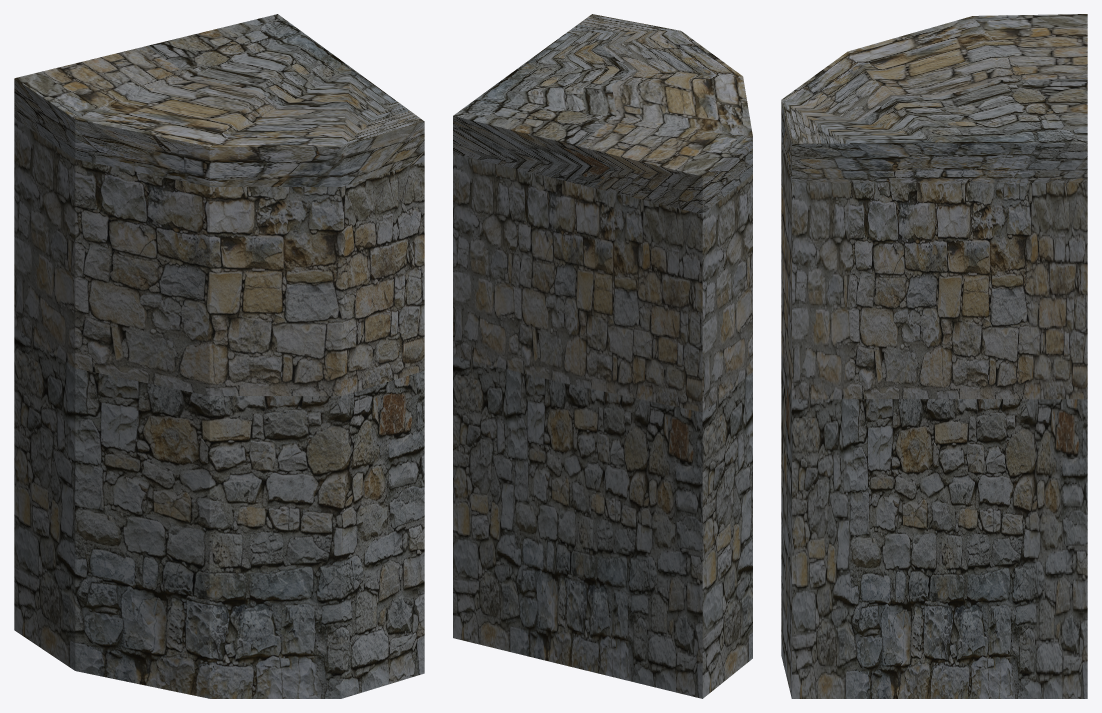
File: foundationroundcorner.glb
3 views of the same model, side by side, from view 1: azimuth 30°, elevation 25°; view 2: azimuth 150°, elevation 25°; view 3: azimuth 270°, elevation 25° (orthographic). The views are drawn at different scales.
Parts seen in each view (by area): view 1: Cube; view 2: Cube; view 3: Cube.
Part boxes in pixels (x1,y1,x2,y2): Cube: (14,14,424,698); Cube: (453,14,752,698); Cube: (781,14,1087,698).
Bounding box in the file's own units: 1 × 2 × 1.
1 material, 1 textured.
